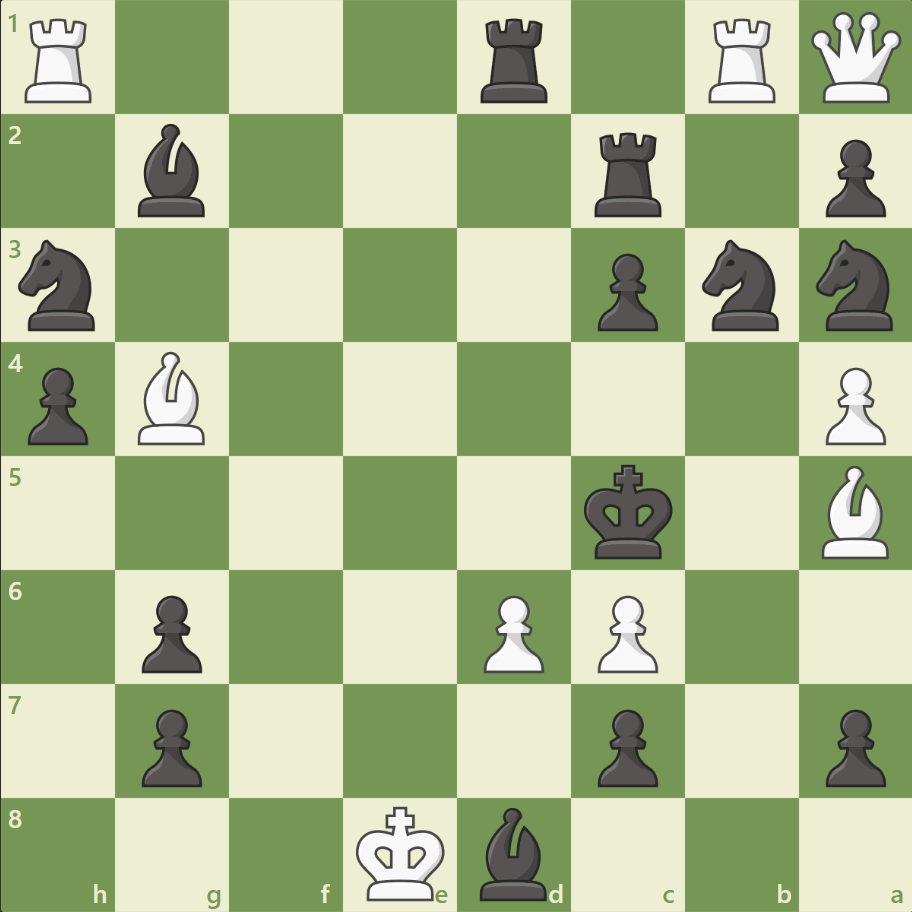B: (812, 460, 896, 563), (131, 347, 215, 449)
K: (351, 798, 451, 906)
P: (474, 586, 549, 677), (588, 586, 662, 677), (815, 359, 889, 450)
Q: (805, 9, 904, 108)
R: (700, 12, 783, 109), (19, 12, 102, 109)
b: (471, 801, 555, 904), (131, 120, 215, 222)
k: (579, 458, 679, 566)
n: (806, 234, 903, 337), (692, 234, 789, 337), (11, 234, 108, 337)
p: (133, 700, 208, 791), (133, 586, 208, 677), (20, 359, 95, 450), (815, 700, 889, 791), (588, 700, 662, 791), (588, 246, 662, 337), (815, 132, 889, 223)
r: (587, 125, 670, 222), (473, 12, 556, 109)
